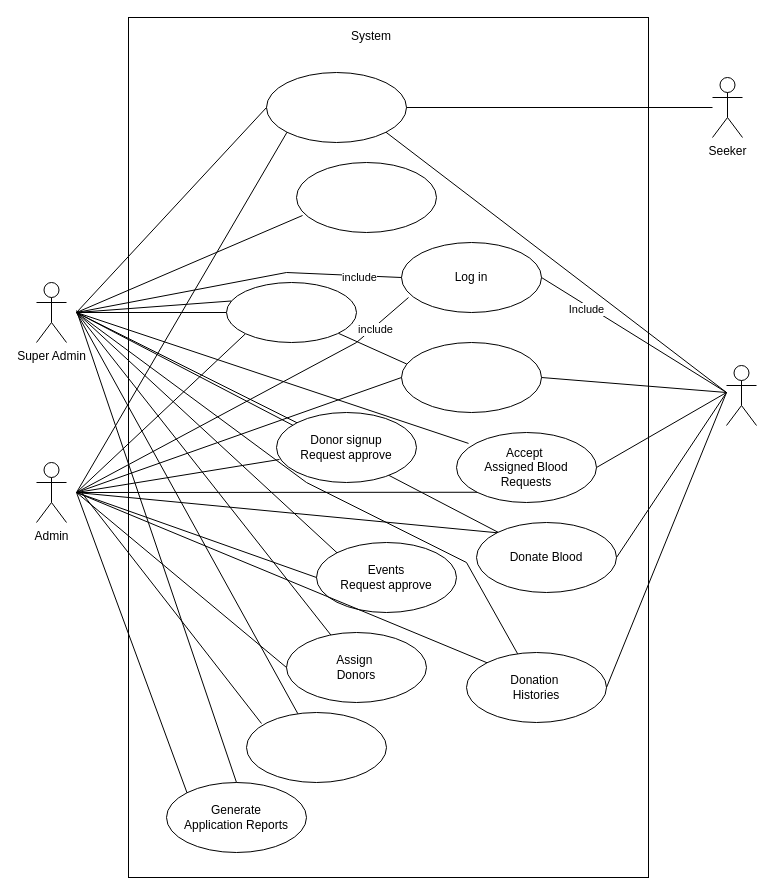
Some shapes in this 775 by 895 pixel diagram are drawn without their labels. The box of each missing label's shape, as (x1, y1, x2, y2) in pixels:
Add Admins: (296, 162, 436, 232)
Add edit Delete Donors, Blood requests, Events: (246, 712, 386, 782)
Blood Request: (266, 72, 406, 142)
Blood Request approve: (226, 282, 356, 342)
Donor: (726, 364, 756, 426)
Manage profile: (400, 342, 542, 412)
